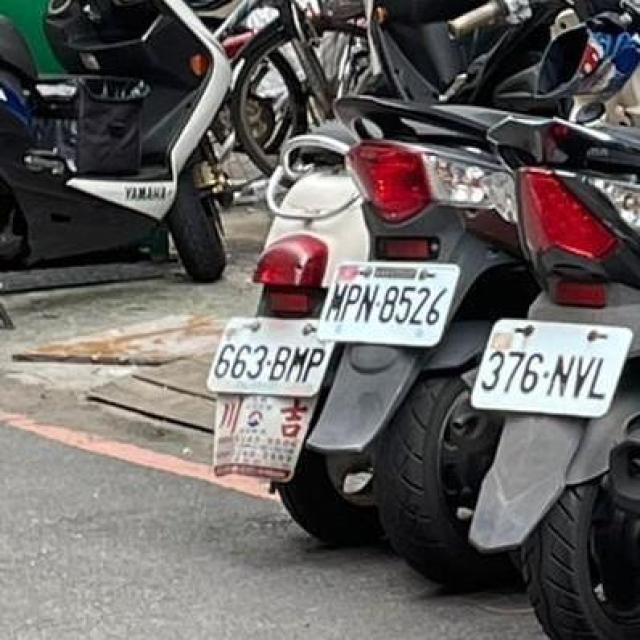W: (465, 304, 637, 428), (316, 243, 466, 357), (200, 306, 340, 410)
